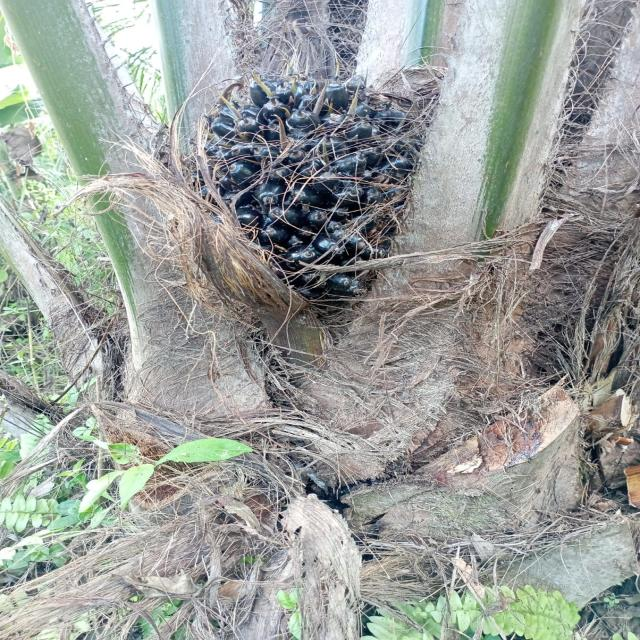fraksi 00: (142, 56, 501, 347)
